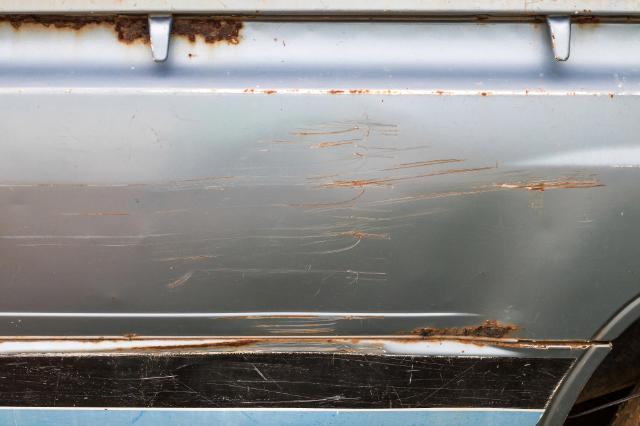scratch: (0, 123, 617, 288), (0, 317, 485, 406)
